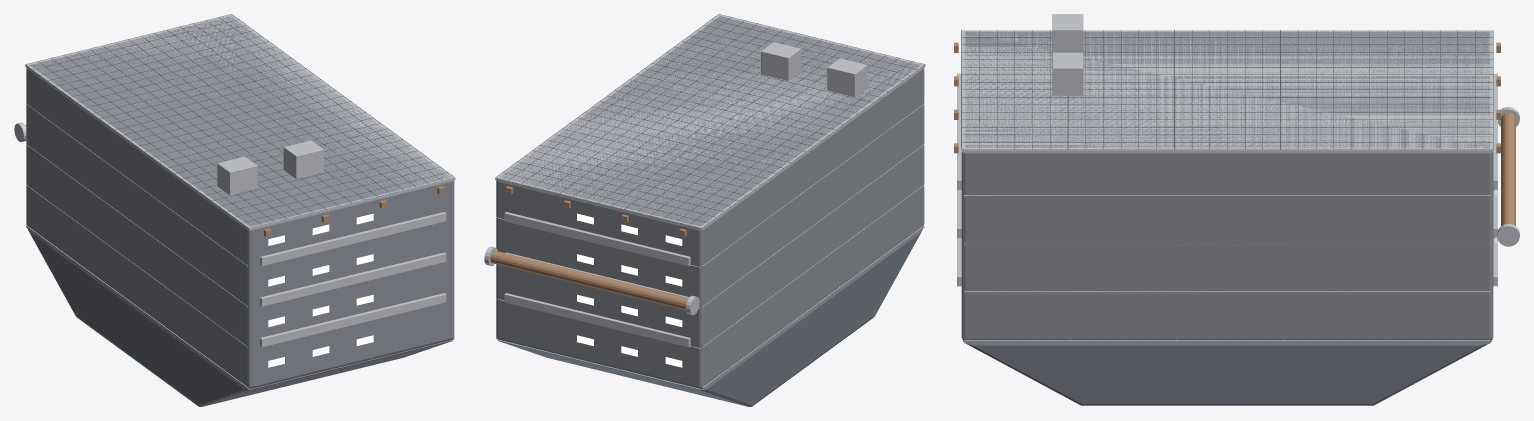
The model's file is ship_mid_30x16.glb.
3 views of the same model, side by side, from view 1: azimuth 30°, elevation 25°; view 2: azimuth 150°, elevation 25°; view 3: azimuth 270°, elevation 25° (orthographic). The views are drawn at different scales.
Visible parts, largest first — view 1: ext_hull, ext_deck_top, ext_hull_belly, ext_deck_grid, ext_armor_plates, ext_deck_vents, int_deck0, ext_ports3, ext_ports2, ext_ports0; view 2: ext_hull, ext_deck_top, ext_hull_belly, ext_deck_grid, ext_armor_plates, ext_hull_pipe, ext_deck_vents, int_deck0, int_grid0, ext_ports0; view 3: ext_hull, ext_deck_top, ext_hull_belly, ext_deck_grid, ext_deck_vents, ext_armor_plates, ext_hull_pipe, int_deck0, int_deck1, int_grid0, int_deck2, int_grid1 (+1 smaller).
Boxes of the visible parts, left/top/right/bottom form: ext_hull: left=26, top=16, right=454, bottom=388; ext_deck_top: left=25, top=14, right=455, bottom=230; ext_hull_belly: left=28, top=229, right=452, bottom=406; ext_deck_grid: left=25, top=14, right=455, bottom=228; ext_armor_plates: left=260, top=212, right=446, bottom=347; ext_deck_vents: left=217, top=140, right=323, bottom=195; int_deck0: left=26, top=226, right=454, bottom=389; ext_ports3: left=268, top=213, right=373, bottom=245; ext_ports2: left=268, top=254, right=373, bottom=286; ext_ports0: left=268, top=335, right=373, bottom=367; ext_hull: left=496, top=16, right=924, bottom=388; ext_deck_top: left=495, top=14, right=925, bottom=230; ext_hull_belly: left=498, top=229, right=922, bottom=406; ext_deck_grid: left=495, top=14, right=925, bottom=228; ext_armor_plates: left=504, top=212, right=690, bottom=347; ext_hull_pipe: left=490, top=250, right=688, bottom=310; ext_deck_vents: left=761, top=42, right=867, bottom=96; int_deck0: left=496, top=226, right=924, bottom=389; int_grid0: left=494, top=225, right=924, bottom=389; ext_ports0: left=577, top=335, right=682, bottom=367; ext_hull: left=961, top=31, right=1493, bottom=340; ext_deck_top: left=961, top=30, right=1493, bottom=152; ext_hull_belly: left=963, top=340, right=1491, bottom=405; ext_deck_grid: left=961, top=30, right=1493, bottom=149; ext_deck_vents: left=1052, top=14, right=1083, bottom=95; ext_armor_plates: left=957, top=73, right=1497, bottom=286; ext_hull_pipe: left=1501, top=113, right=1515, bottom=225; int_deck0: left=964, top=340, right=1490, bottom=342; int_deck1: left=964, top=292, right=1490, bottom=294; int_grid0: left=964, top=292, right=1496, bottom=340; int_deck2: left=964, top=243, right=1490, bottom=246; int_grid1: left=964, top=285, right=1496, bottom=291.
Bounding box in the file's own units: 16.02 × 17.71 × 31.93.
